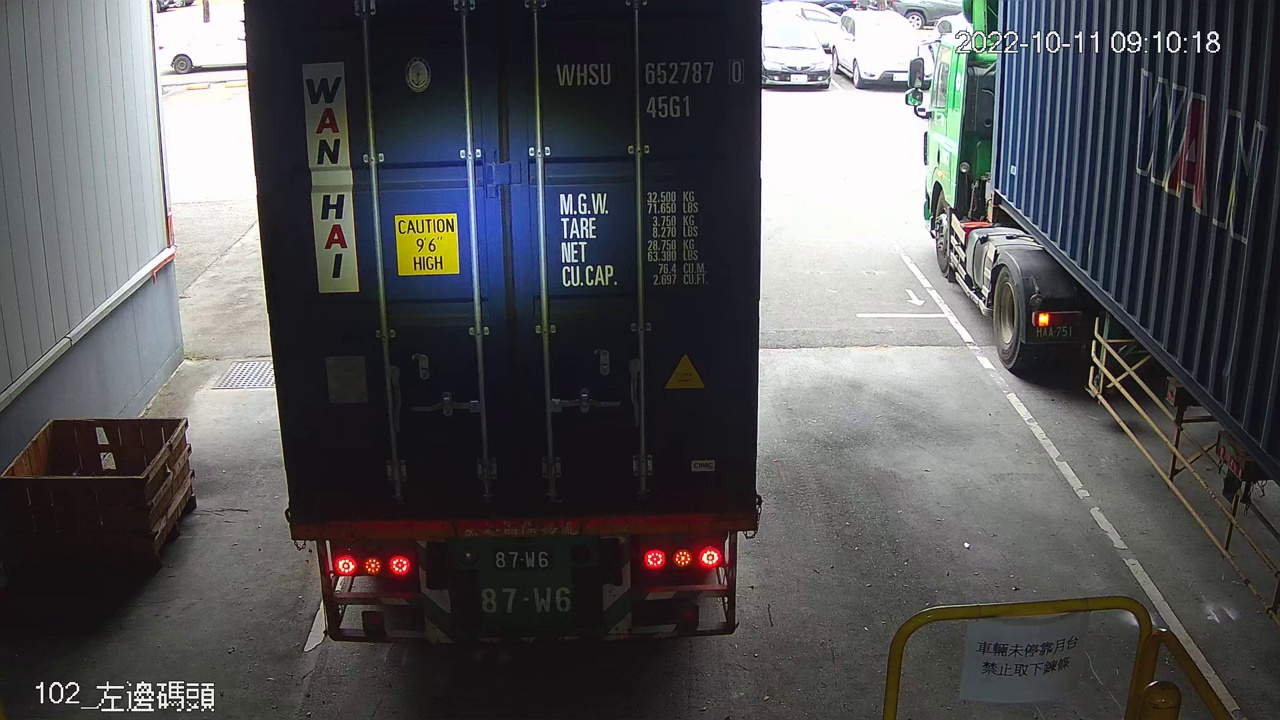container: (548, 51, 752, 129)
